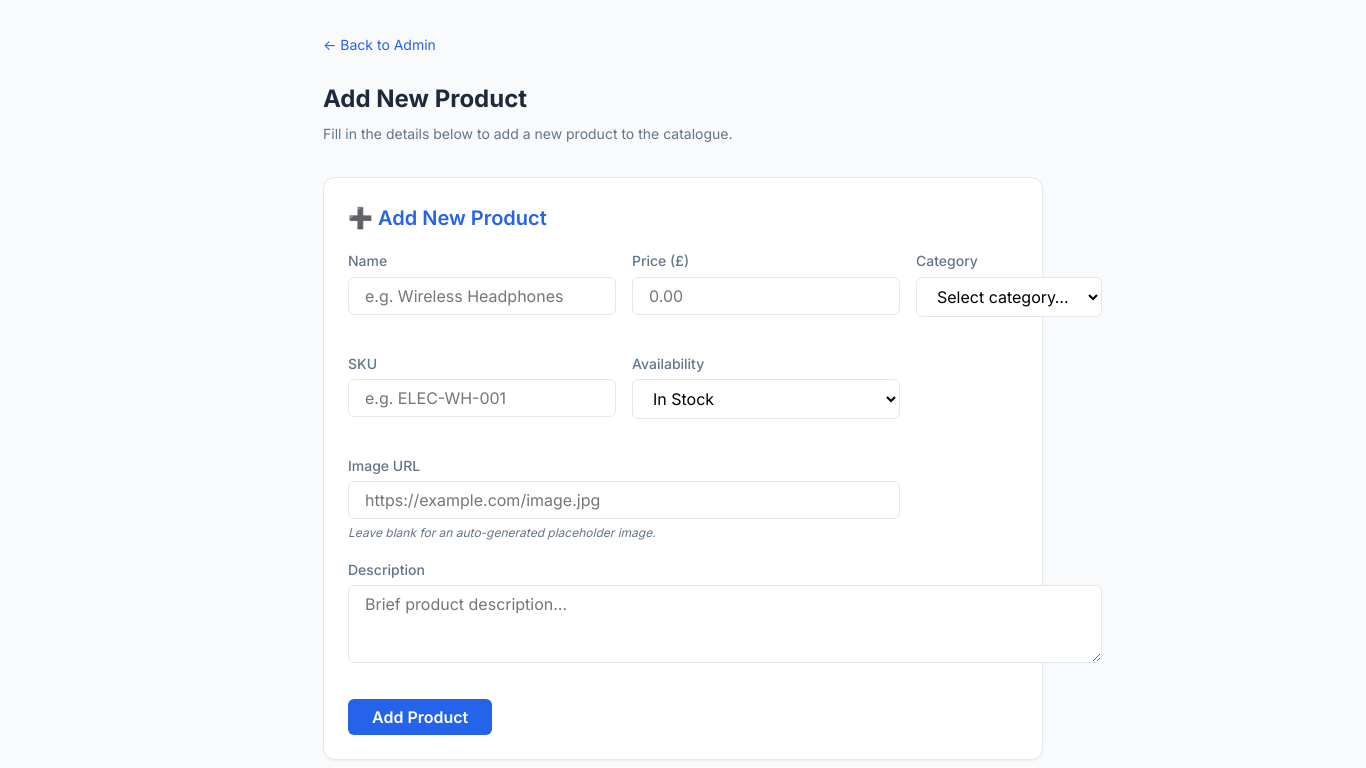
Test: Admin — Add Product Page › adds a new product and navigates to admin
Type "New Widget" into the field labelled "Name" at (482, 296), box [348,277,616,315]
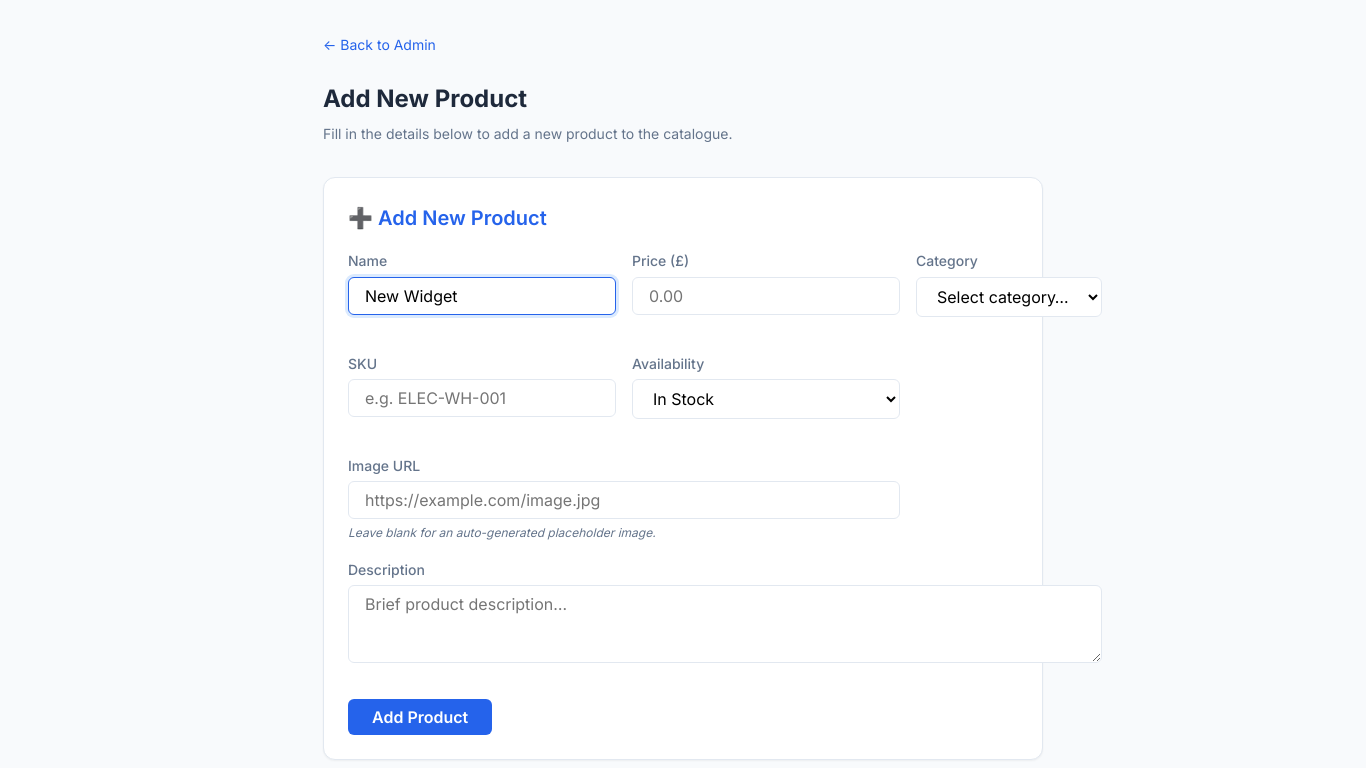
Type "25.50" into the number field labelled "Price (£)" at (766, 296), box [632,277,900,315]
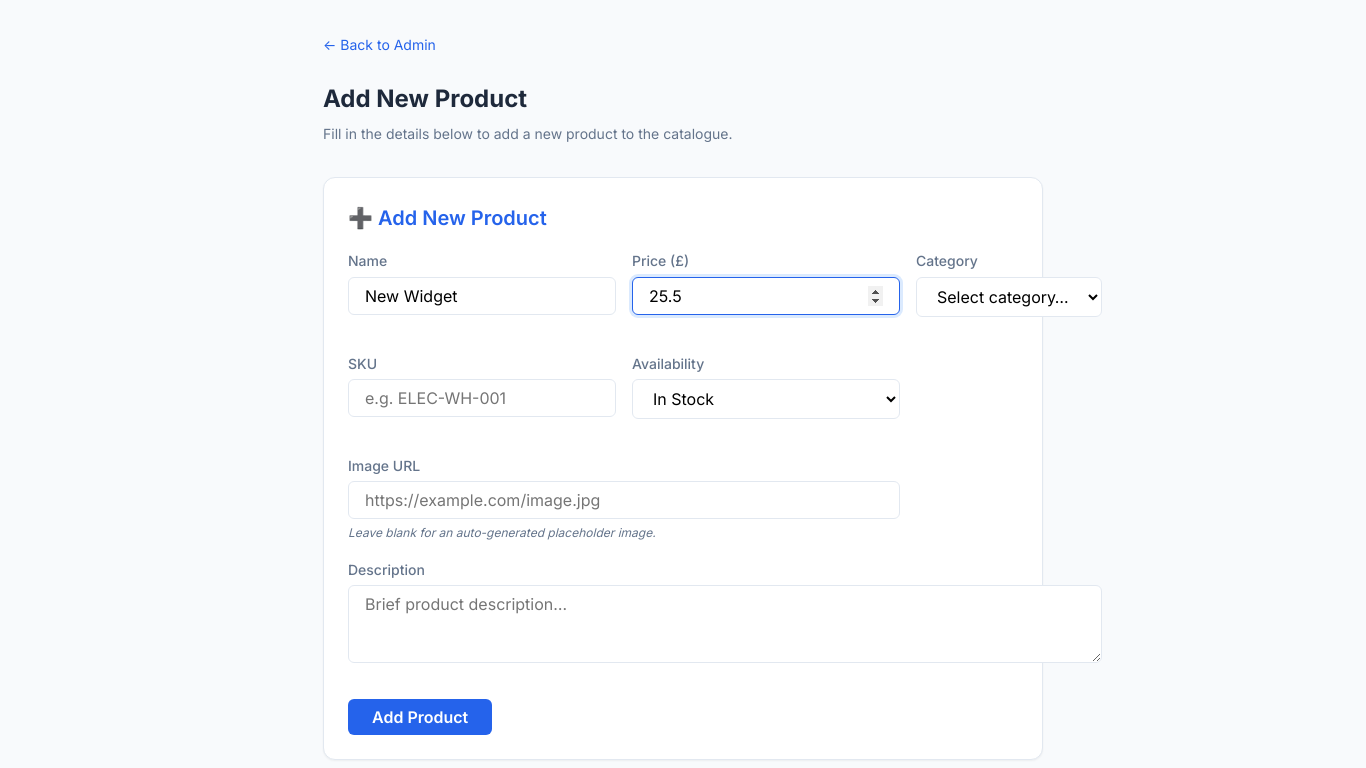
Select "Home" in the dropdown labelled "Category" at (1009, 297), box [916,277,1102,317]
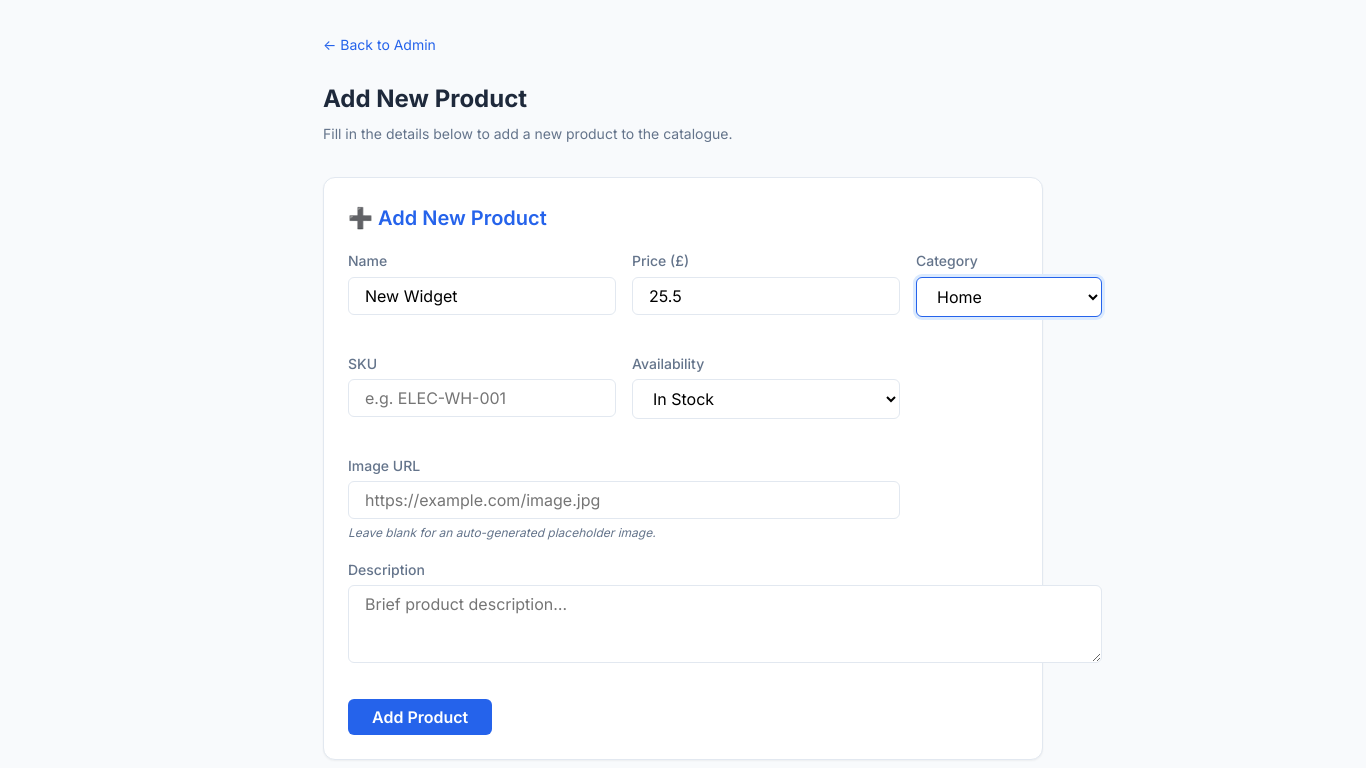
Type "HOME-NW-010" into the field labelled "SKU" at (482, 398), box [348,379,616,417]
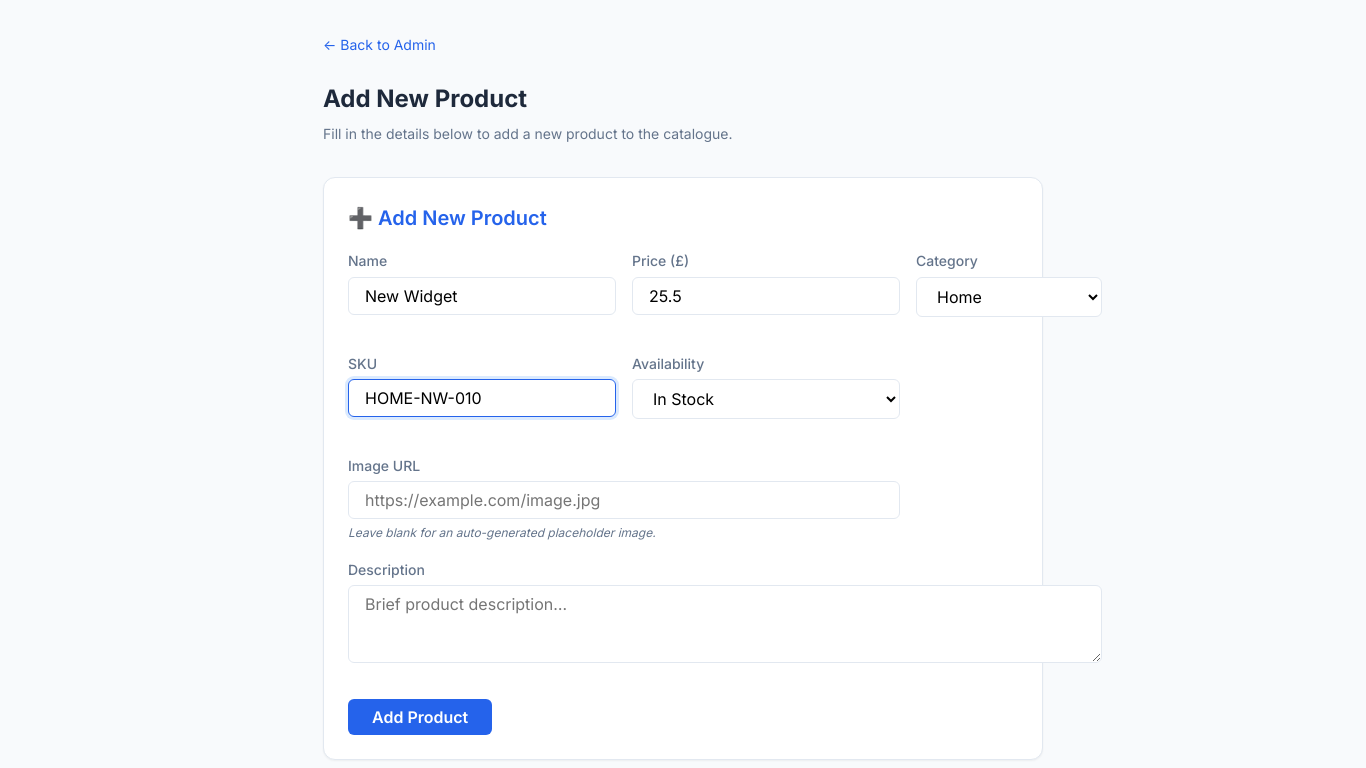
Type "A shiny new widget." into the text box labelled "Description" at (725, 624), box [348,585,1102,663]
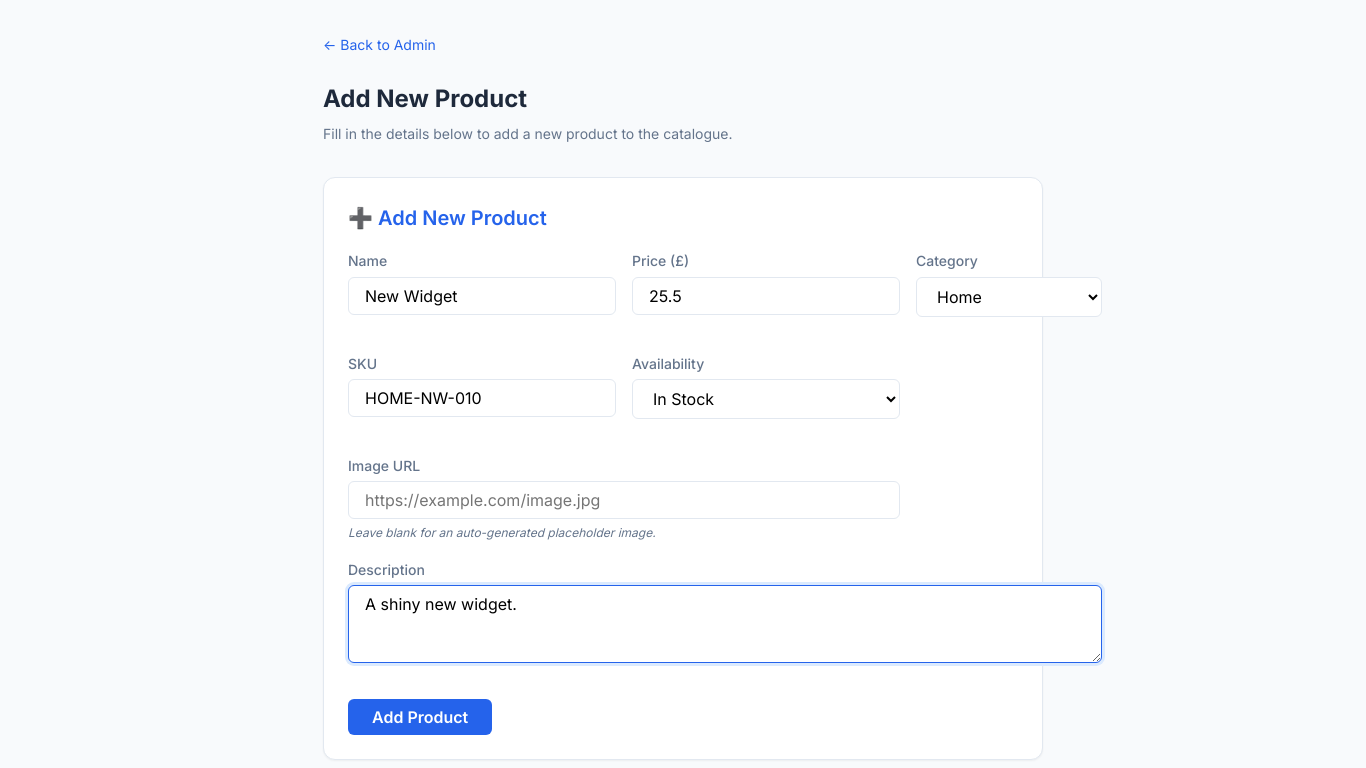
Click the button "Add Product" at (420, 717), box [348,699,492,735]
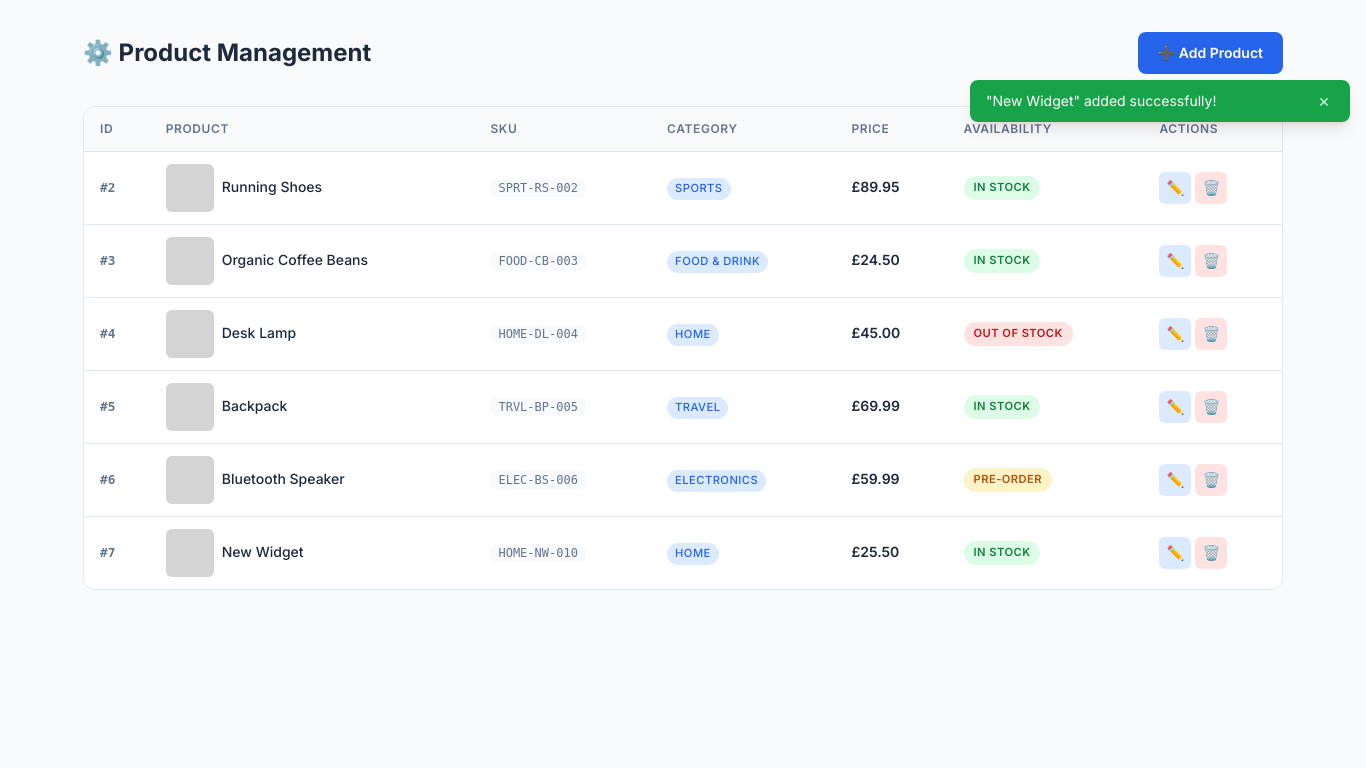
Result: the text "New Widget" is shown at [222,541,304,564]
